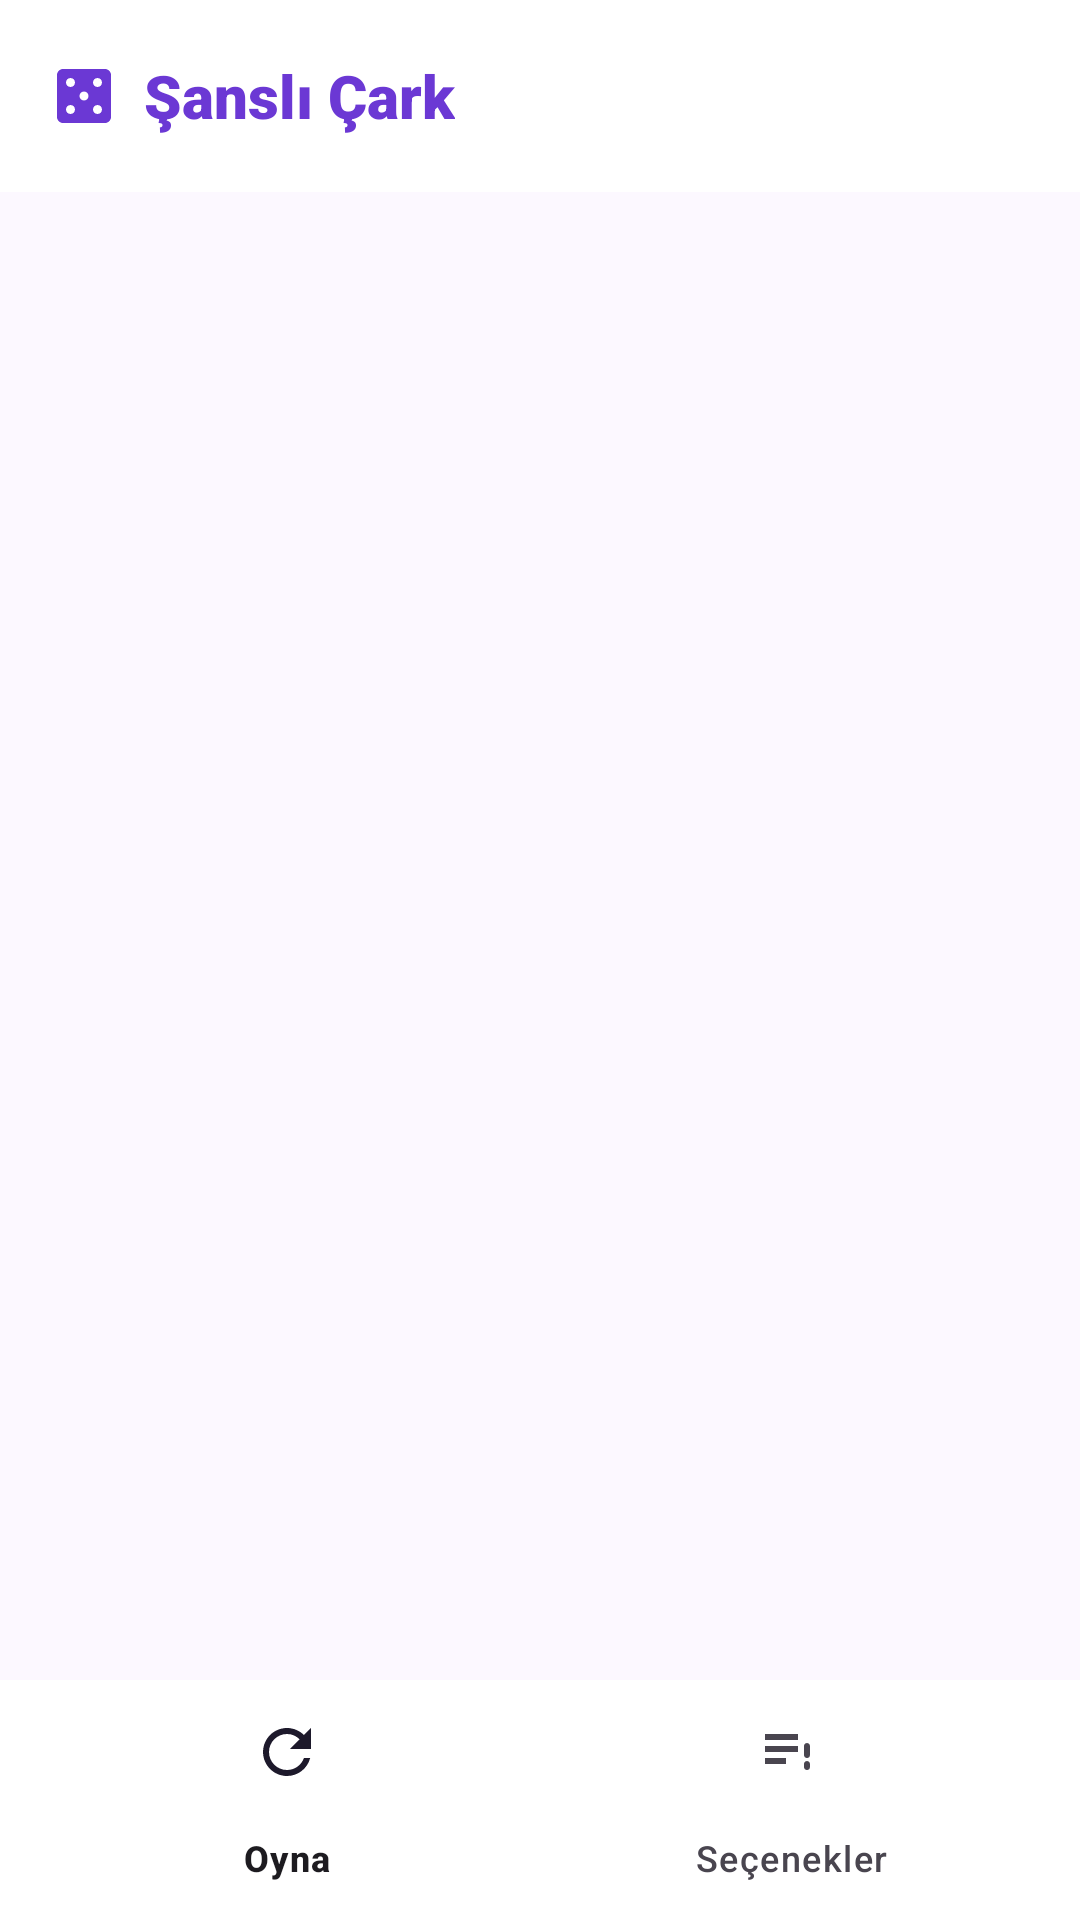

Screen size 1080 × 1920. Icon name, then its box in pixels as [x1,y1,x2,y2]:
casino: [57,69,111,123]
